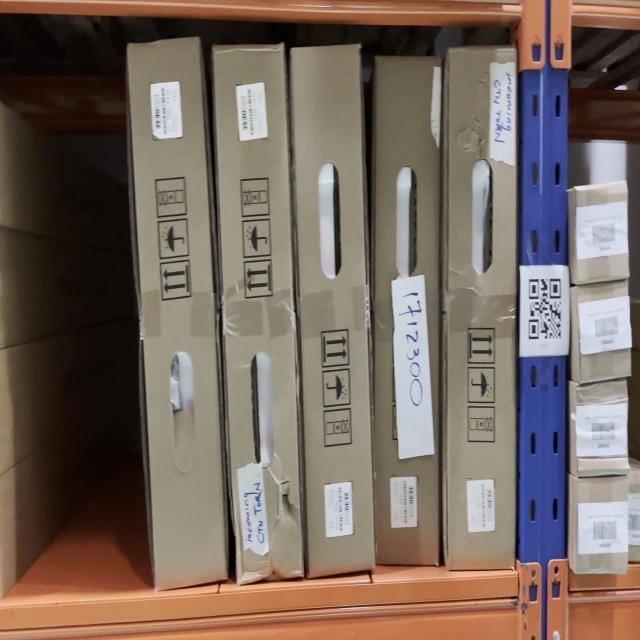box: (128, 38, 226, 590), (214, 45, 303, 584), (446, 48, 516, 568), (377, 57, 441, 564), (305, 50, 361, 569)
